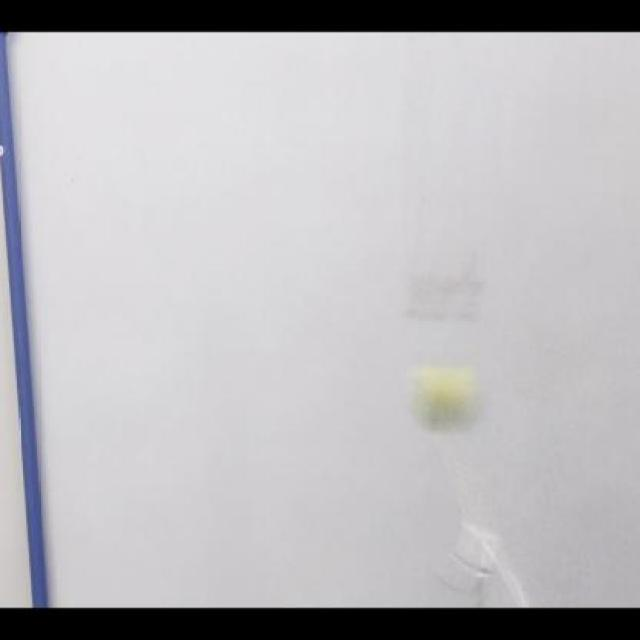baseball: (404, 367, 485, 435)
